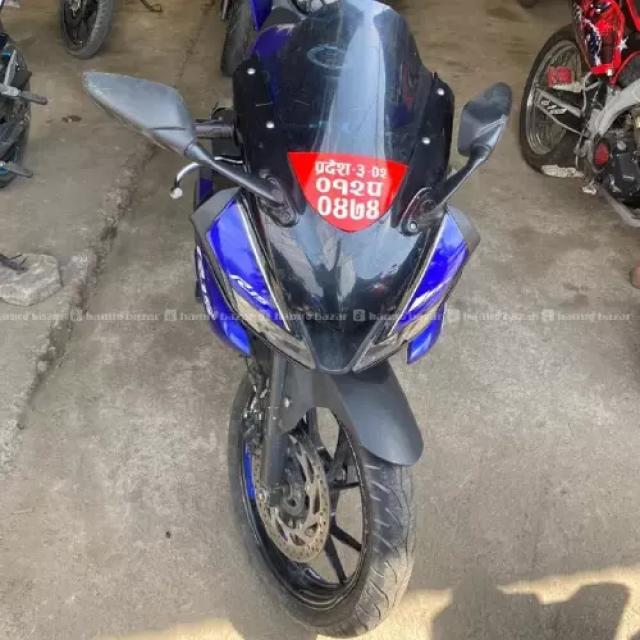License-plate: (282, 150, 409, 236)
